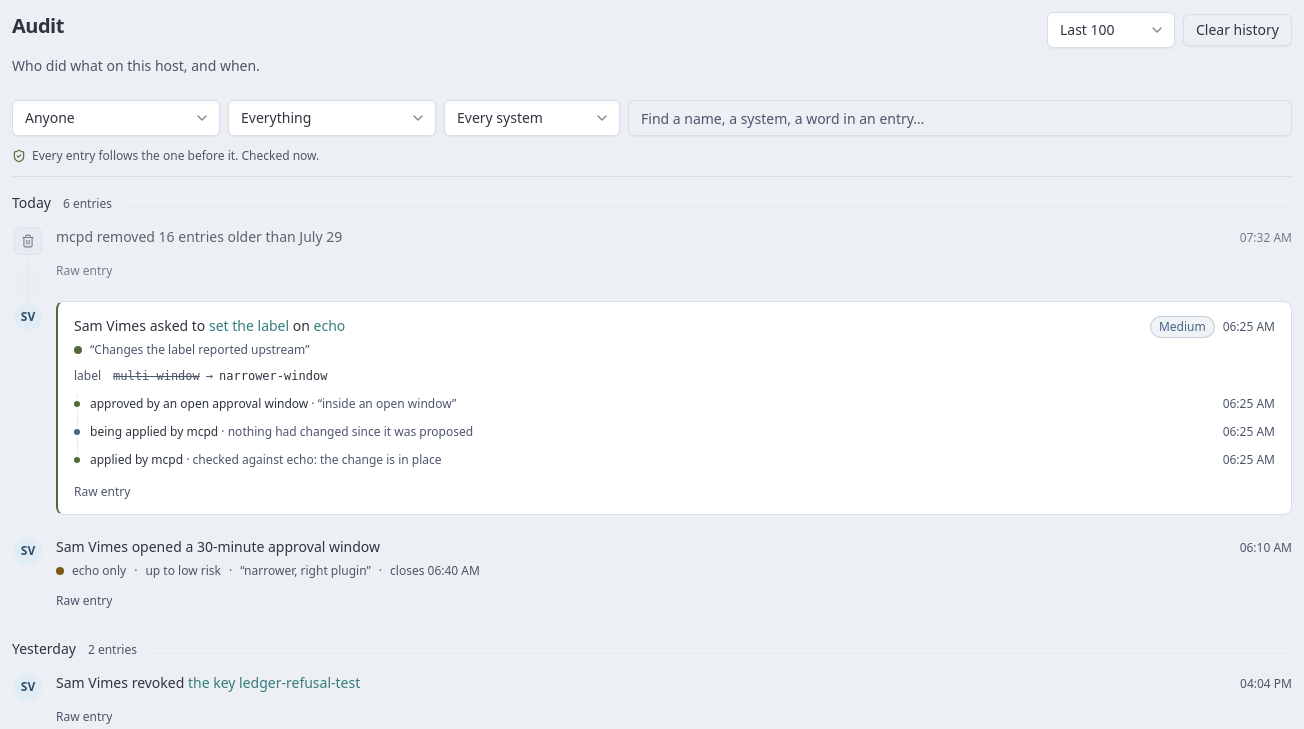
Test case: the audit trail › keeps a change whole when the filter matches any one of its steps
Check: the text "Today" is shown, box 12,193 -> 51,213
Select "Sam Vimes" in the dropdown named "Who" at coordinates (116, 118), box 12,100 -> 220,136
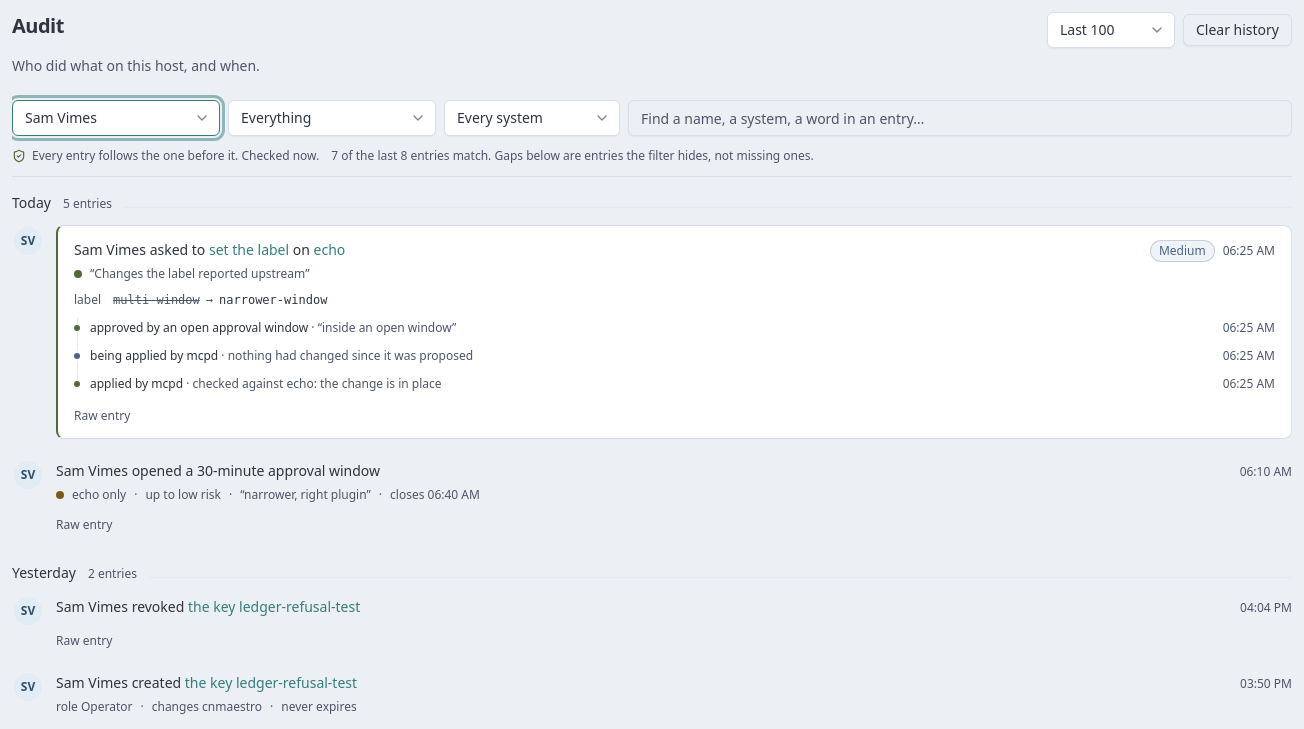
Check: the element showing "Sam Vimes asked to set the label on echo" is shown, box 74,240 -> 345,259
Check: the text "removed 16 entries older than" is gone
